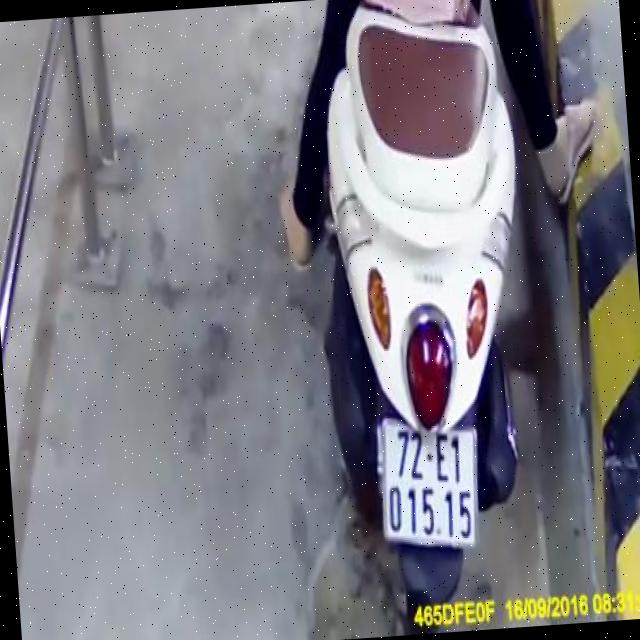license_plate: (375, 403, 485, 556)
